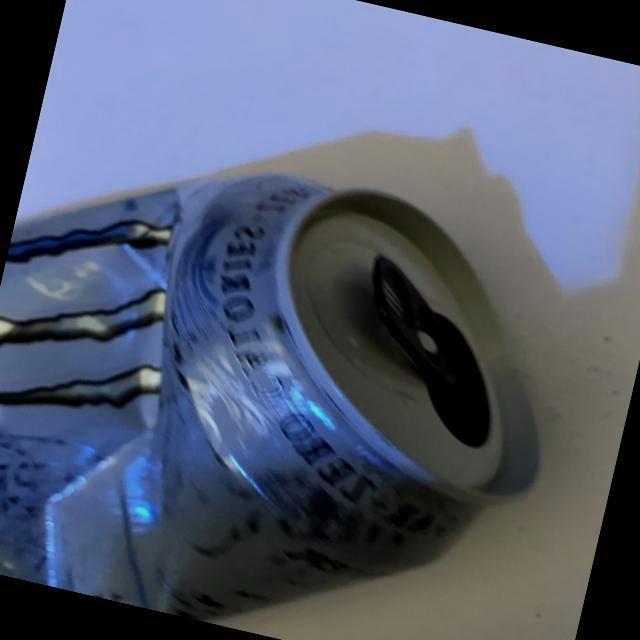metal: (0, 99, 611, 640)
